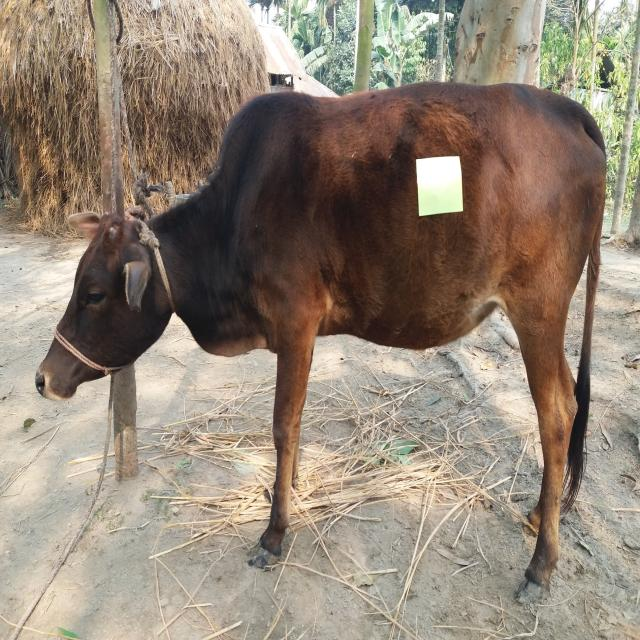badan_sapi: (245, 84, 606, 357)
sapi: (27, 67, 623, 608)
